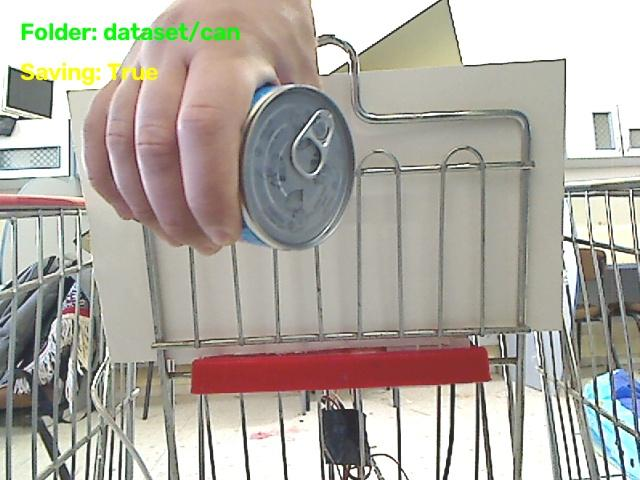can: (241, 87, 353, 249)
